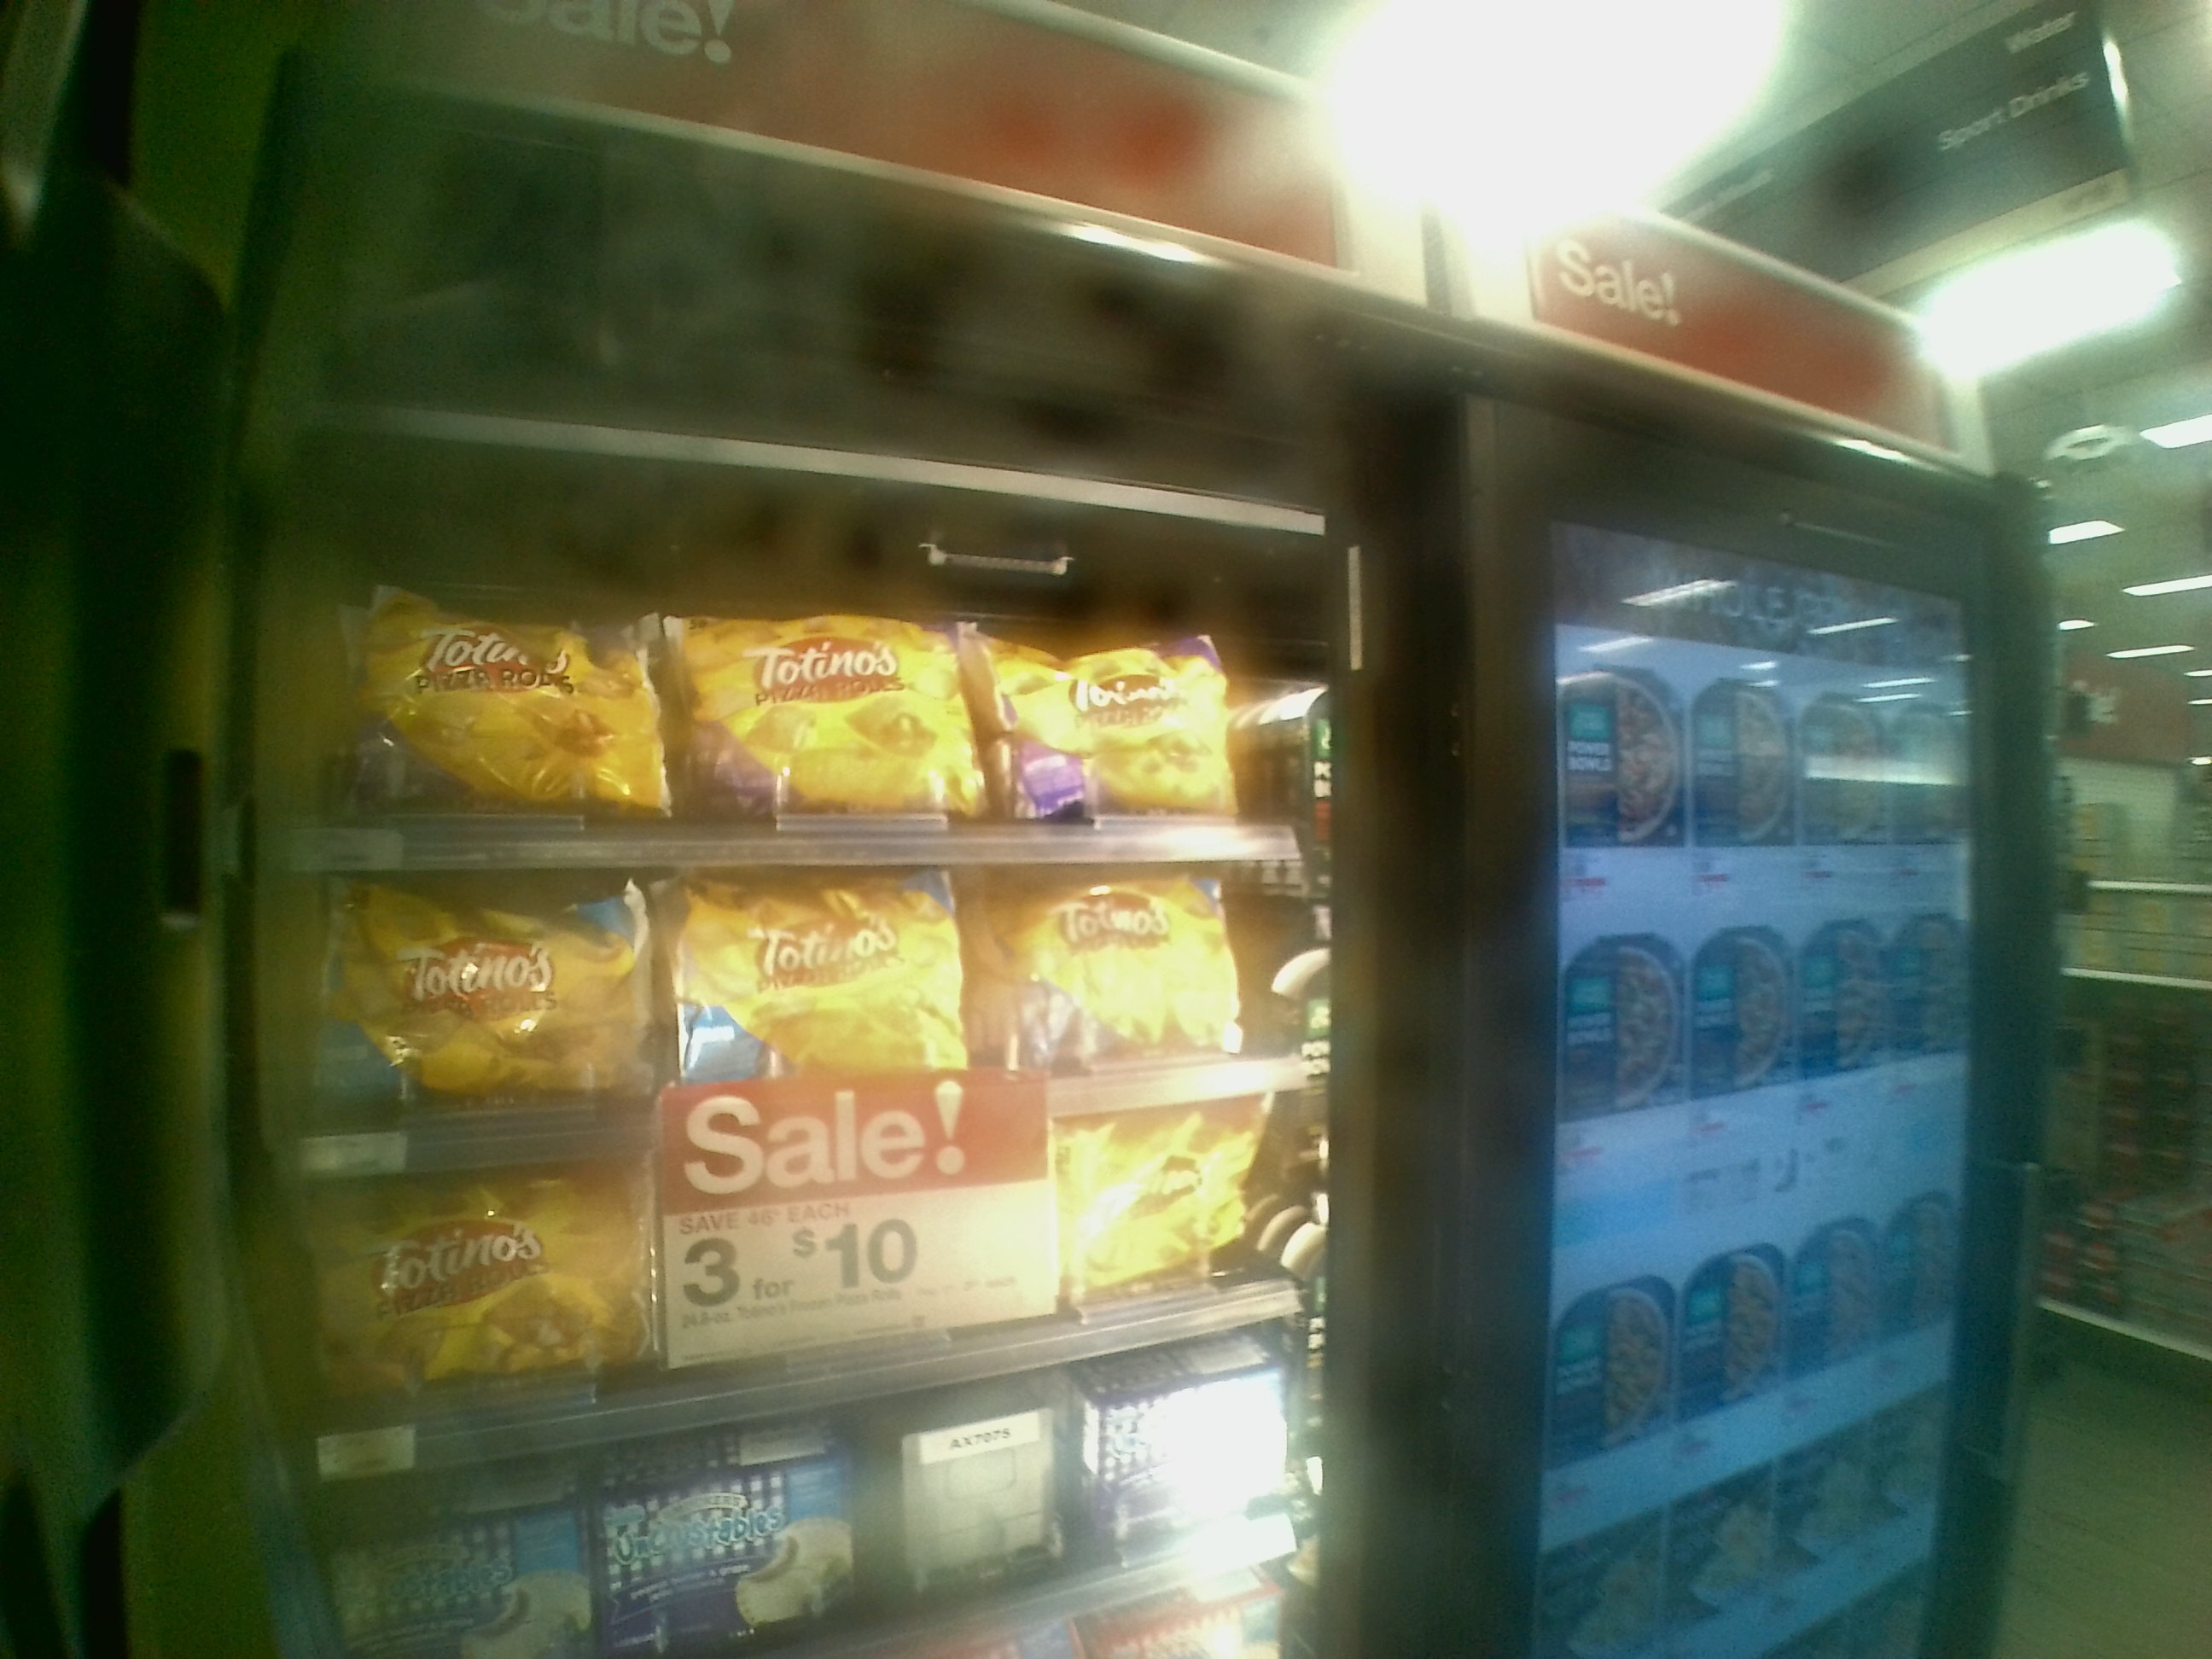shelf: (296, 1112, 1325, 1448)
